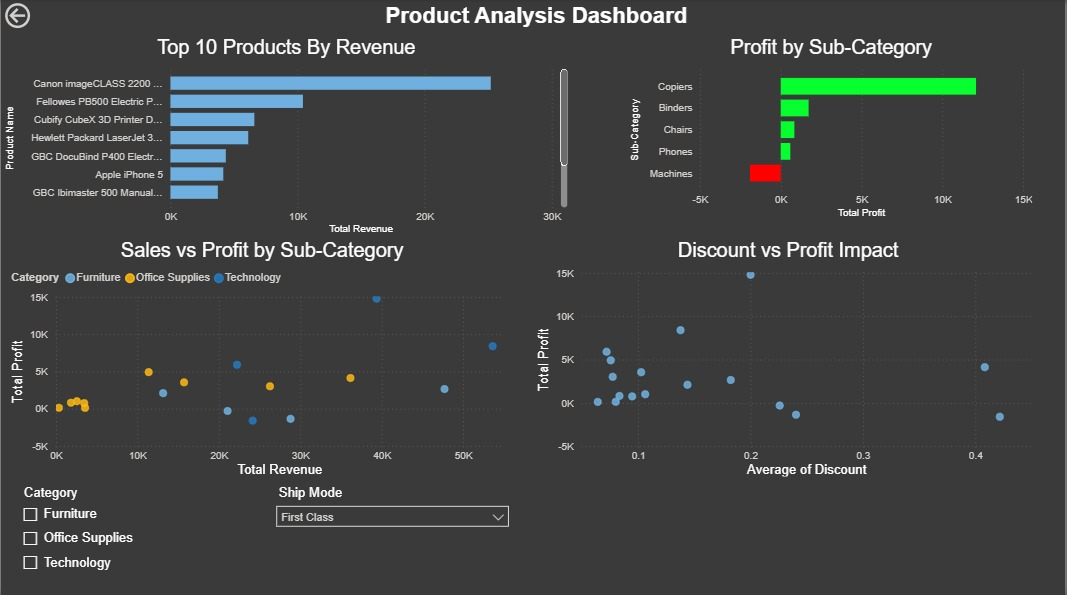

The dashboard page shown, as its layout file describes it:
{"tool":"powerbi","page":{"name":"Product Analysis","canvas":[1280,720],"ordinal":1},"visuals":[{"type":"textbox","box":[10,0,1270,44.3],"z":0},{"type":"barChart","title":"Top 10 Products By Revenue","fields":{"Y":["Sample - Superstore.Total Revenue"],"Category":["Sample - Superstore.Product Name"]},"box":[0,44.3,687.1,244.3],"z":1000},{"type":"barChart","title":"Profit by Sub-Category","fields":{"Category":["Sample - Superstore.Sub-Category"],"Y":["Sample - Superstore.Total Profit"]},"box":[752.9,44.3,494.3,224.3],"z":2000},{"type":"scatterChart","title":"Sales vs Profit by Sub-Category","fields":{"X":["Sample - Superstore.Total Revenue"],"Y":["Sample - Superstore.Total Profit"],"Category":["Sample - Superstore.Sub-Category"],"Series":["Sample - Superstore.Category"]},"box":[7.1,288.6,614.3,291.4],"z":3000},{"type":"scatterChart","title":"Discount vs Profit Impact","fields":{"X":["Avg(Sample - Superstore.Discount)"],"Y":["Sample - Superstore.Total Profit"],"Category":["Sample - Superstore.Sub-Category"]},"box":[640,288.6,614.3,291.4],"z":4000},{"type":"slicer","fields":{"Values":["Sample - Superstore.Category"]},"box":[14.3,580,300,122.9],"z":5000},{"type":"slicer","fields":{"Values":["Sample - Superstore.Ship Mode"]},"box":[321.4,580,300,84.3],"z":6000},{"type":"actionButton","box":[0,0,100,40],"z":7000}]}

Visuals, with their boxes in screenshot pixels (x1, y1, x2, y2), scaled from the page's 1280x720 canvas onto the 1067x595 screenshot:
textbox: crop(8, 0, 1066, 37)
"Top 10 Products By Revenue" barChart: crop(0, 37, 573, 238)
"Profit by Sub-Category" barChart: crop(628, 37, 1040, 222)
"Sales vs Profit by Sub-Category" scatterChart: crop(6, 238, 518, 479)
"Discount vs Profit Impact" scatterChart: crop(534, 238, 1046, 479)
slicer - Sample - Superstore.Category: crop(12, 479, 262, 581)
slicer - Sample - Superstore.Ship Mode: crop(268, 479, 518, 549)
actionButton: crop(0, 0, 83, 33)
